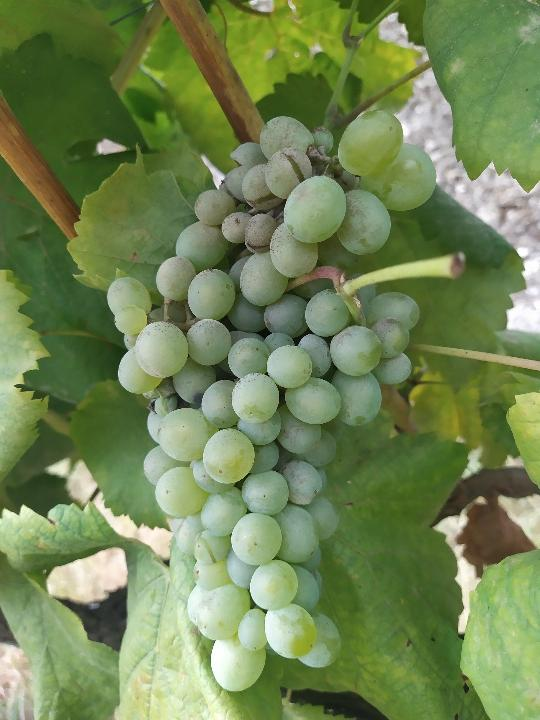grape: (104, 106, 440, 696)
